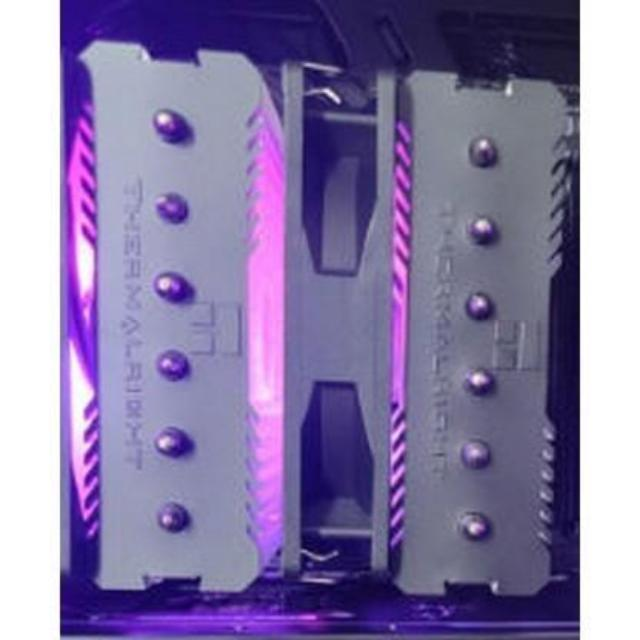CPU_Fan: (72, 27, 560, 618)
